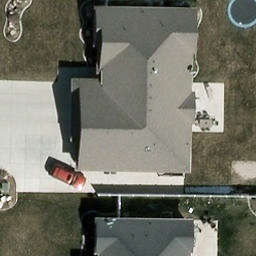car: (47, 164, 87, 193)
